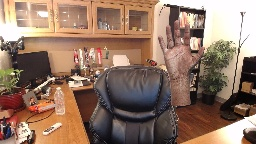Mano_aperta: (156, 19, 207, 78)
